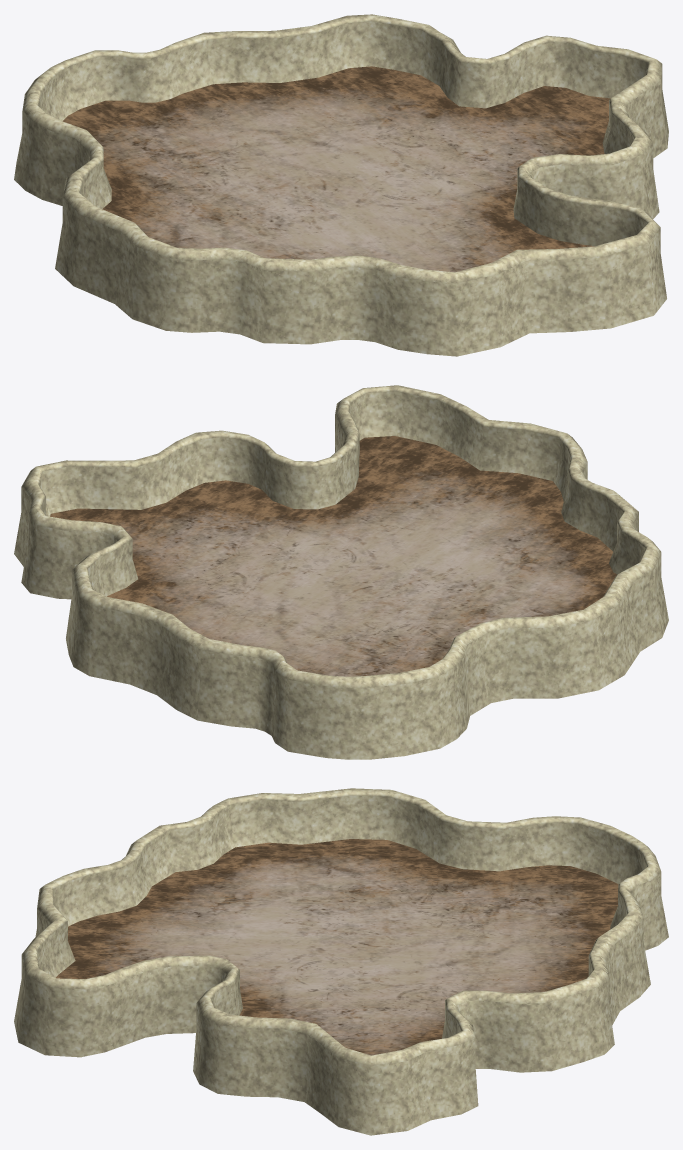
File: Plates_Small_1.fbx
3 renders of one model, top to bottom at view 1: azimuth 30°, elevation 25°; view 2: azimuth 150°, elevation 25°; view 3: azimuth 270°, elevation 25°, orthographic. The views are drawn at different scales.
Visible parts, largest first — view 1: Plates_Small_1; view 2: Plates_Small_1; view 3: Plates_Small_1.
Part boxes in pixels (<box>): Plates_Small_1: <box>14,14,668,356</box>; Plates_Small_1: <box>14,385,668,759</box>; Plates_Small_1: <box>14,788,668,1135</box>.
Bounding box in the file's own units: 17.91 × 2.14 × 17.62.
Materials: 2 (2 with a texture image).
